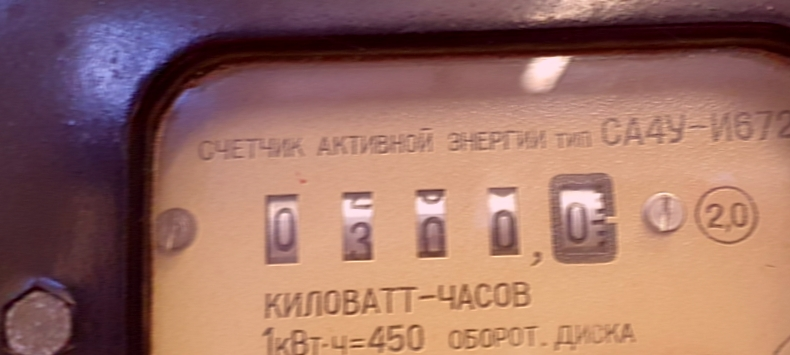0: (270, 200, 298, 253), (562, 196, 591, 246), (417, 209, 446, 258), (488, 205, 518, 252)
3: (345, 215, 374, 259)
screen: (242, 163, 626, 282)
